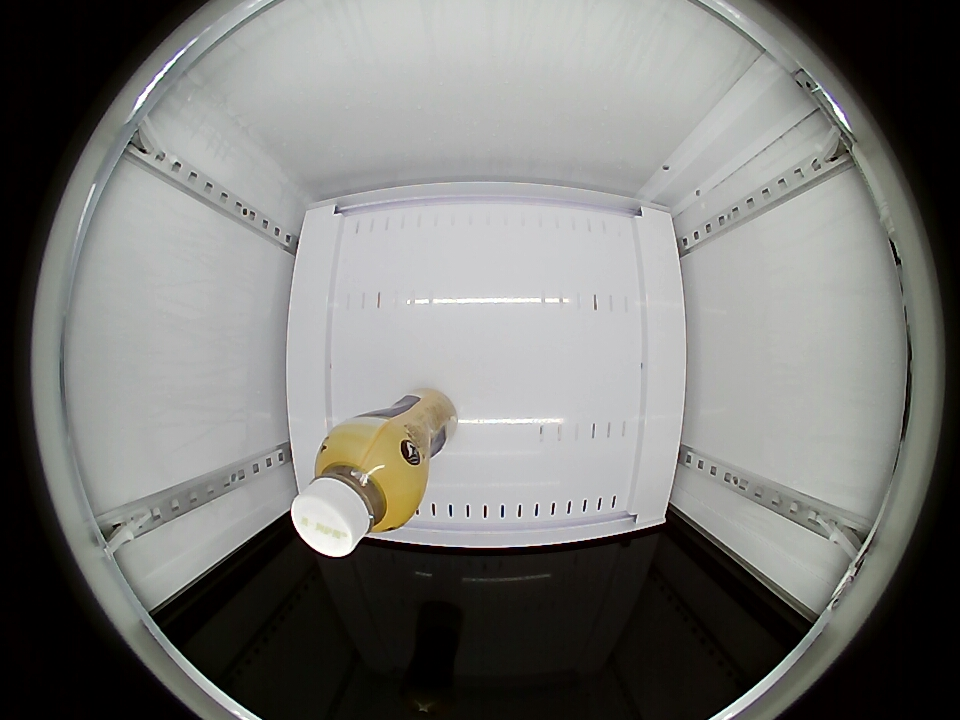asamu: (291, 432, 420, 557)
